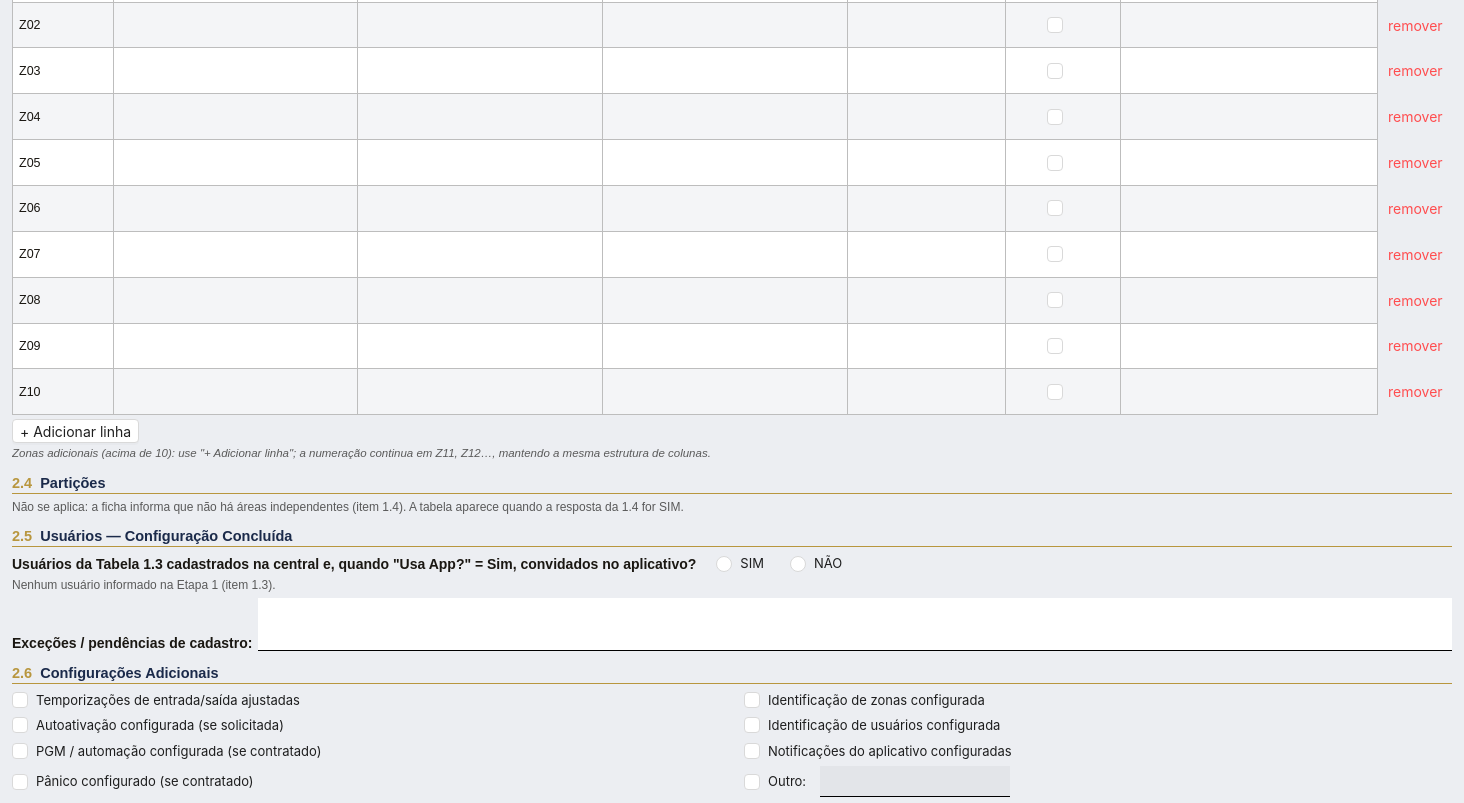
Etapa 2 — opções de comunicação por modelo › "Outro" da 2.6 só habilita o texto com o checkbox marcado
(page scrolled)
Expected: the field named "Outra configuração" is disabled, [820,766,1010,797]
Click the 10th checkbox labelled "Outro:".
click(779, 782)  # box [744,771,814,792]
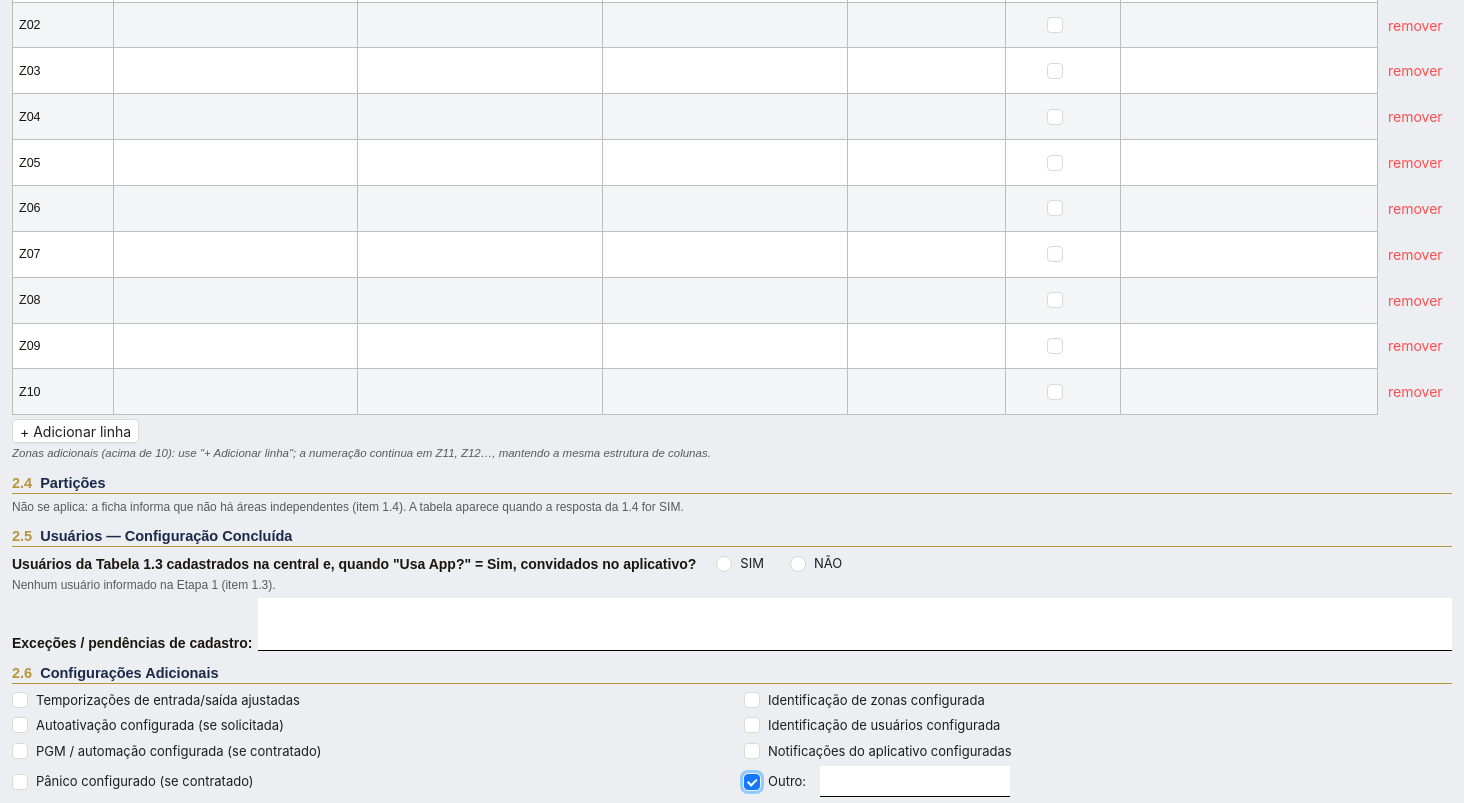
Expected: the field named "Outra configuração" is enabled, [820,766,1010,797]
